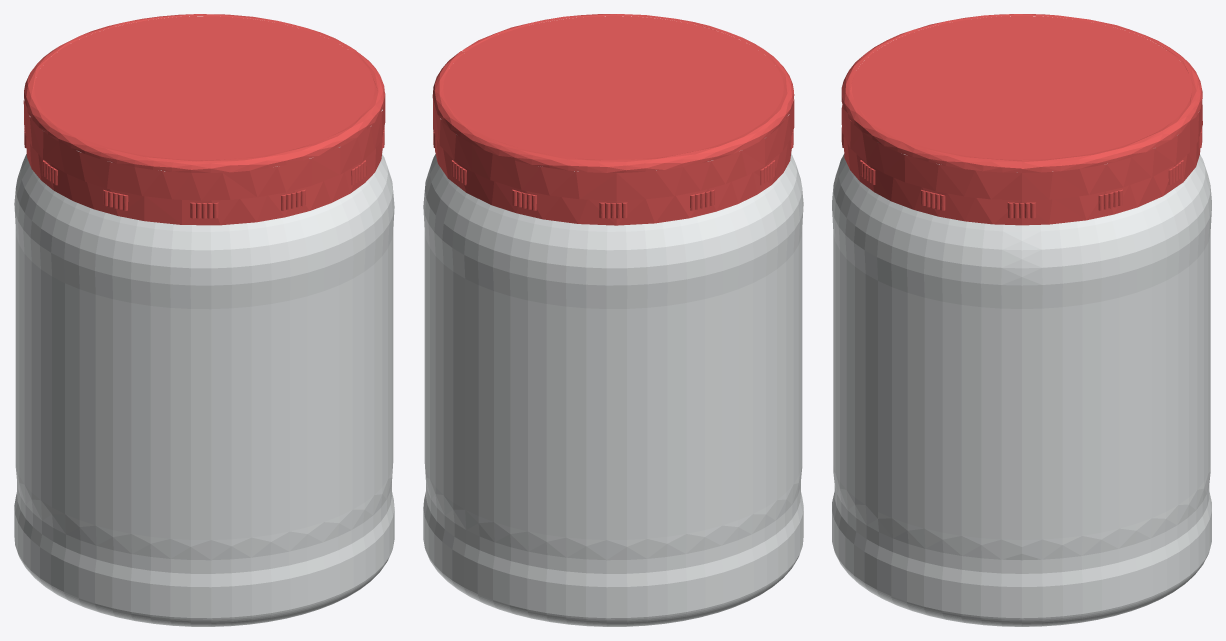
Rendered from PROP_chili_paste_jar_v005_OPT.glb.
3 views of the same model, side by side, from view 1: azimuth 30°, elevation 25°; view 2: azimuth 150°, elevation 25°; view 3: azimuth 270°, elevation 25° (orthographic).
Parts seen in each view (by area): view 1: Jar_Body__Original_V003, Lid_Shell, Lid_Grip_Ribs; view 2: Jar_Body__Original_V003, Lid_Shell, Lid_Grip_Ribs; view 3: Jar_Body__Original_V003, Lid_Shell, Lid_Grip_Ribs.
Boxes of the visible parts, x1,y1,x2,y2 form: Jar_Body__Original_V003: [14, 126, 394, 626]; Lid_Shell: [23, 14, 385, 225]; Lid_Grip_Ribs: [24, 127, 384, 218]; Jar_Body__Original_V003: [423, 134, 803, 626]; Lid_Shell: [432, 14, 794, 225]; Lid_Grip_Ribs: [433, 130, 793, 218]; Jar_Body__Original_V003: [832, 135, 1211, 626]; Lid_Shell: [841, 14, 1202, 225]; Lid_Grip_Ribs: [841, 127, 1202, 218].
Bounding box in the file's own units: 0.1 × 0.1351 × 0.0999.
